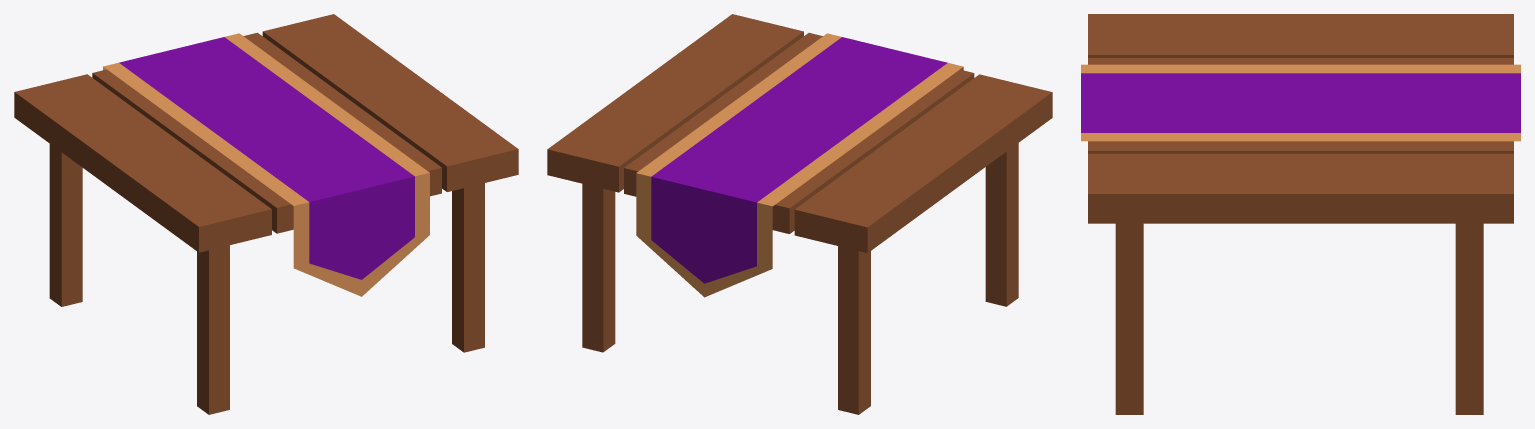
The model's file is Table.fbx.
3 renders of one model, left to right at view 1: azimuth 30°, elevation 25°; view 2: azimuth 150°, elevation 25°; view 3: azimuth 270°, elevation 25°, orthographic. The views are drawn at different scales.
Visible parts, largest first — view 1: Table; view 2: Table; view 3: Table.
Part boxes in pixels (x1,y1,x2,y2): Table: (14,14,518,414); Table: (547,14,1052,414); Table: (1081,14,1520,414).
Bounding box in the file's own units: 150 × 91.12 × 155.
